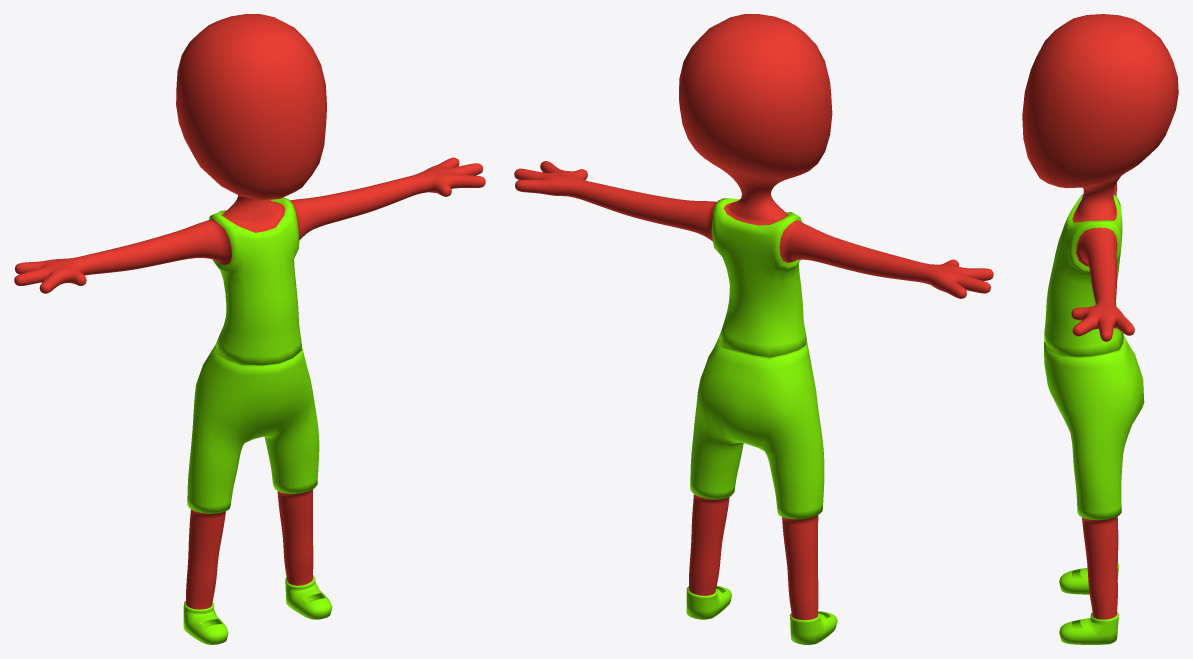
The model's file is StickMan (1).fbx.
3 renders of one model, left to right at view 1: azimuth 30°, elevation 25°; view 2: azimuth 150°, elevation 25°; view 3: azimuth 270°, elevation 25°, orthographic. The views are drawn at different scales.
Visible parts, largest first — view 1: SymmVert.001; view 2: SymmVert.001; view 3: SymmVert.001.
Boxes of the visible parts, x1,y1,x2,y2 form: SymmVert.001: (14, 14, 485, 644); SymmVert.001: (514, 14, 993, 644); SymmVert.001: (1022, 14, 1178, 644).
Size of the model in its own units: 257 by 312 by 74.67.
